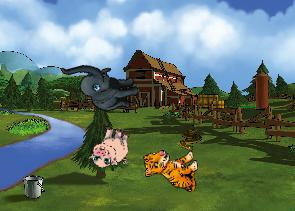elephant: (60, 49, 142, 121)
pig: (87, 122, 134, 172)
tiger: (142, 145, 201, 196)
